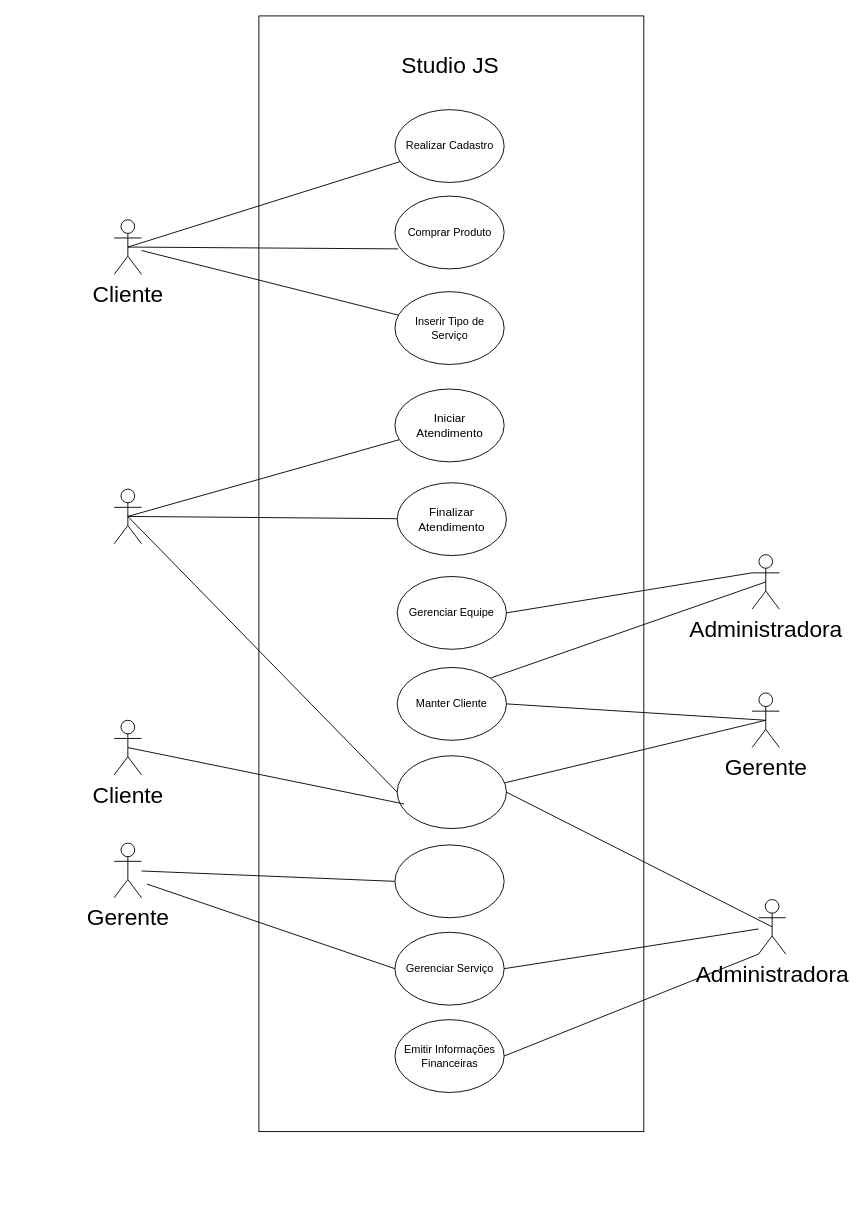
Image size: 864x1212. Some labels were removed from this diagram. The shapes that lost their labels are listed below. From the top down, each one's box as (x1, y1, x2, y2) in pixels, then its label:
(113, 488, 142, 544): Funcionária
(396, 755, 506, 829): Manter Agendamento
(394, 844, 504, 918): Gerenciar Estoque
